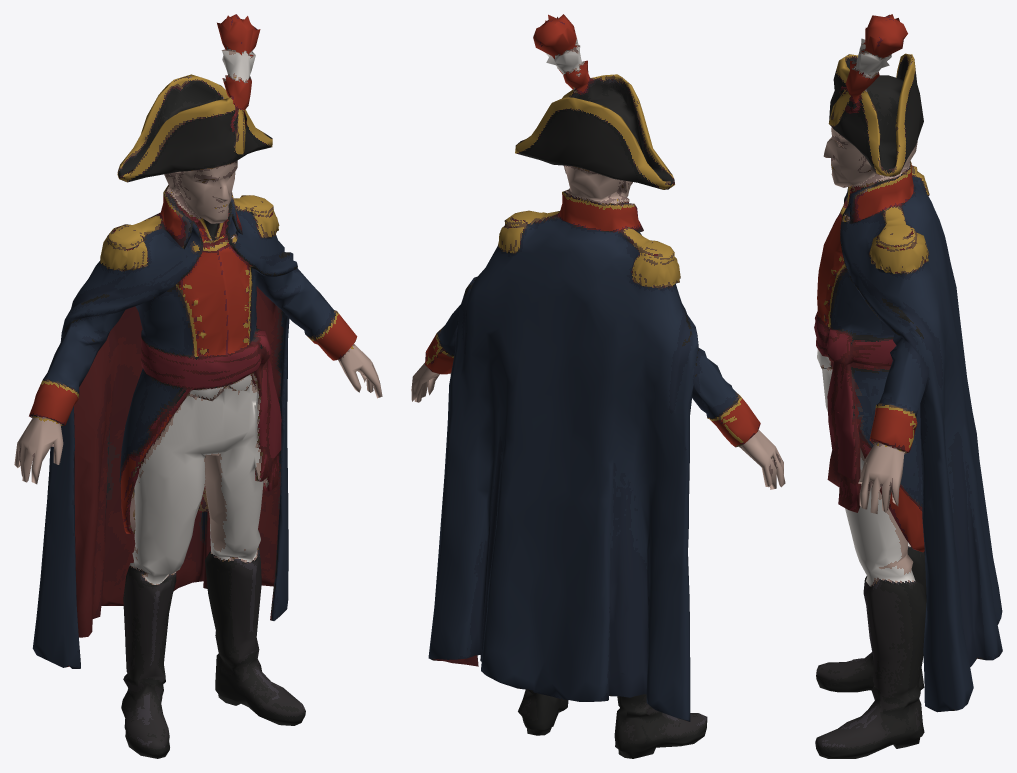
File: capitan.glb
3 views of the same model, side by side, from view 1: azimuth 30°, elevation 25°; view 2: azimuth 150°, elevation 25°; view 3: azimuth 270°, elevation 25° (orthographic). The views are drawn at different scales.
Visible parts, largest first — view 1: tripo_node_708cc3ef-00f4-4775-ac89-4898563d56ef; view 2: tripo_node_708cc3ef-00f4-4775-ac89-4898563d56ef; view 3: tripo_node_708cc3ef-00f4-4775-ac89-4898563d56ef.
Boxes of the visible parts, <box> form: tripo_node_708cc3ef-00f4-4775-ac89-4898563d56ef: <box>14,14,382,758</box>; tripo_node_708cc3ef-00f4-4775-ac89-4898563d56ef: <box>411,14,785,758</box>; tripo_node_708cc3ef-00f4-4775-ac89-4898563d56ef: <box>814,14,1002,758</box>.
Bounding box in the file's own units: 0.5382 × 1 × 0.2365.
1 material, 1 textured.
